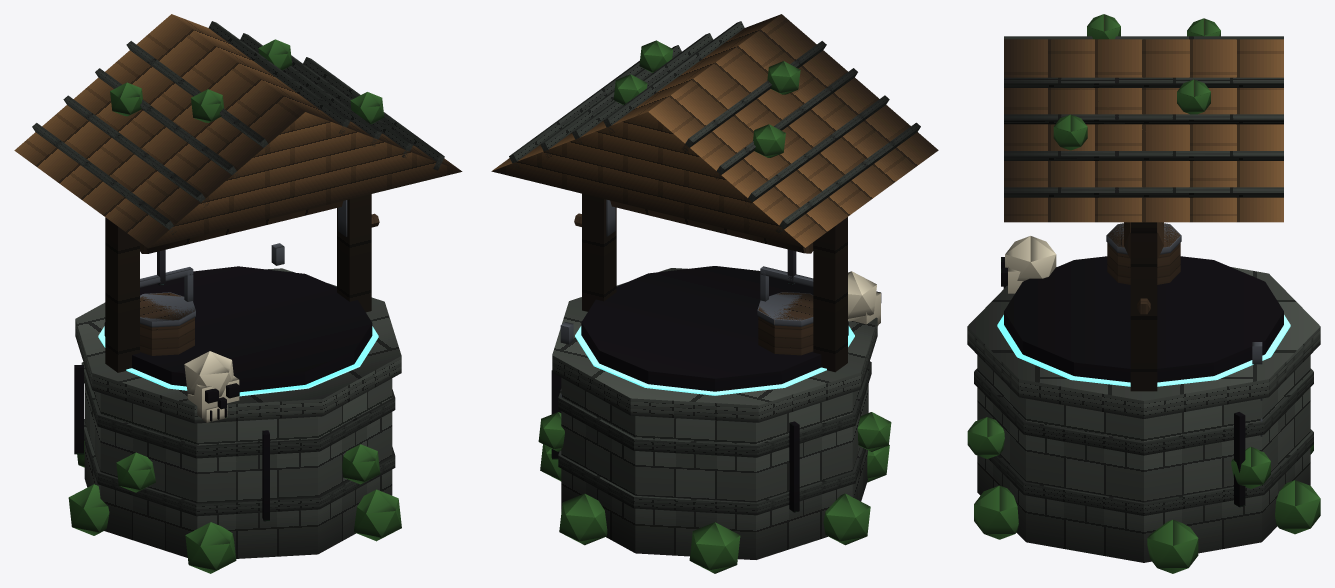
Rendered from well.glb.
3 views of the same model, side by side, from view 1: azimuth 30°, elevation 25°; view 2: azimuth 150°, elevation 25°; view 3: azimuth 270°, elevation 25° (orthographic). The views are drawn at different scales.
Parts seen in each view (by area): view 1: well; view 2: well; view 3: well.
Boxes of the visible parts, left/top/right/bottom form: well: left=14, top=14, right=462, bottom=573; well: left=491, top=14, right=938, bottom=573; well: left=967, top=14, right=1320, bottom=573.
Size of the model in its own units: 1.15 by 1.54 by 1.06.
Materials: 1 (1 with a texture image).
